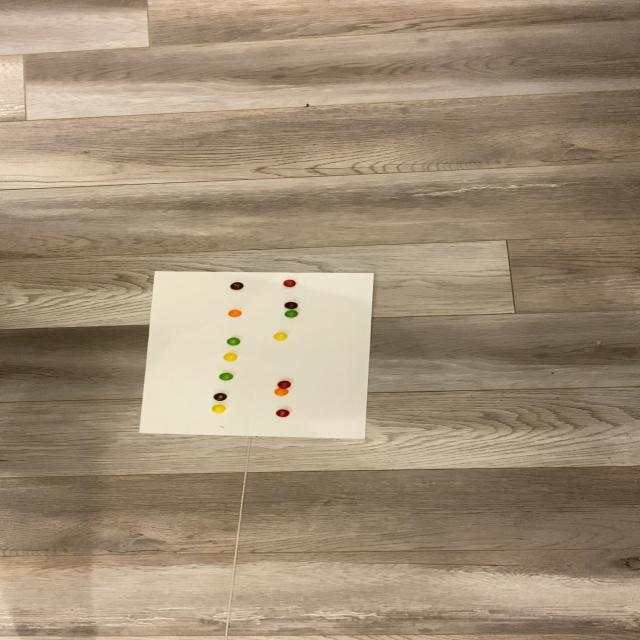smartie: (219, 372, 234, 381), (273, 332, 288, 341), (213, 392, 227, 401), (278, 380, 292, 389), (226, 337, 240, 346), (224, 353, 238, 362), (212, 404, 226, 413), (283, 301, 298, 309), (274, 388, 289, 396), (284, 310, 299, 318), (276, 409, 289, 418), (230, 282, 244, 290), (228, 309, 242, 317), (283, 280, 297, 288)
